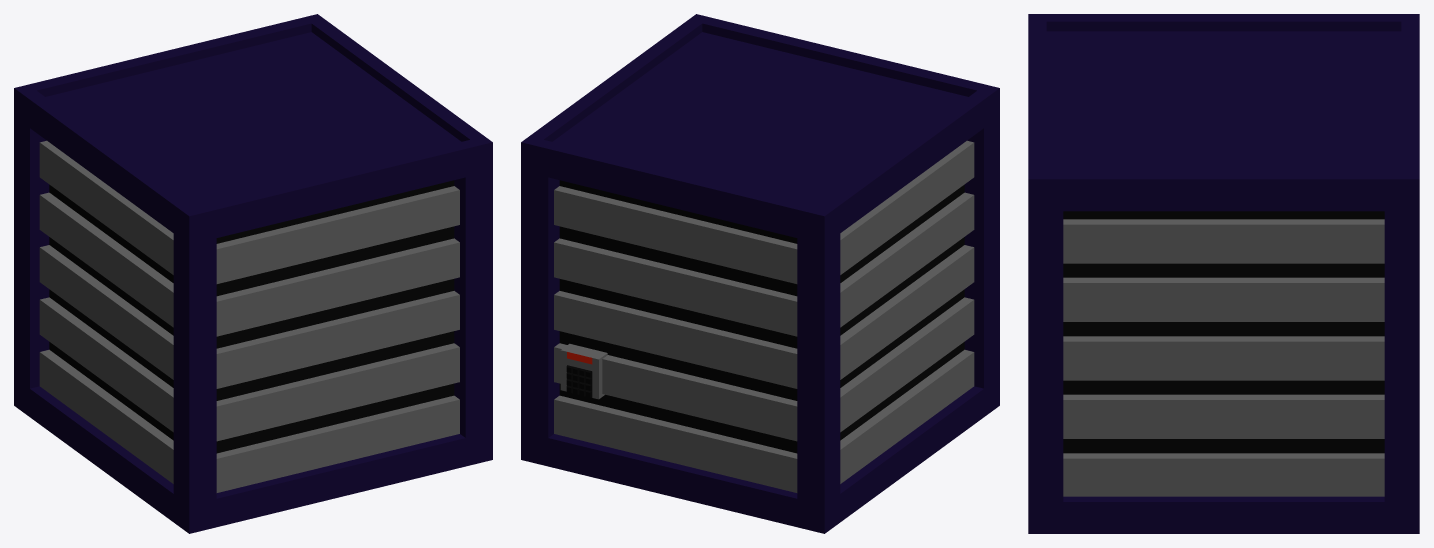
The picture shows the model from 3 angles, left to right: view 1: azimuth 30°, elevation 25°; view 2: azimuth 150°, elevation 25°; view 3: azimuth 270°, elevation 25°; orthographic projection. The views are drawn at different scales.
Parts seen in each view (by area): view 1: Cube; view 2: Cube; view 3: Cube.
Part boxes in pixels (x1,y1,x2,y2): Cube: [14, 14, 492, 533]; Cube: [521, 14, 999, 533]; Cube: [1028, 14, 1419, 533].
Bounding box in the file's own units: 200 × 200 × 200.
